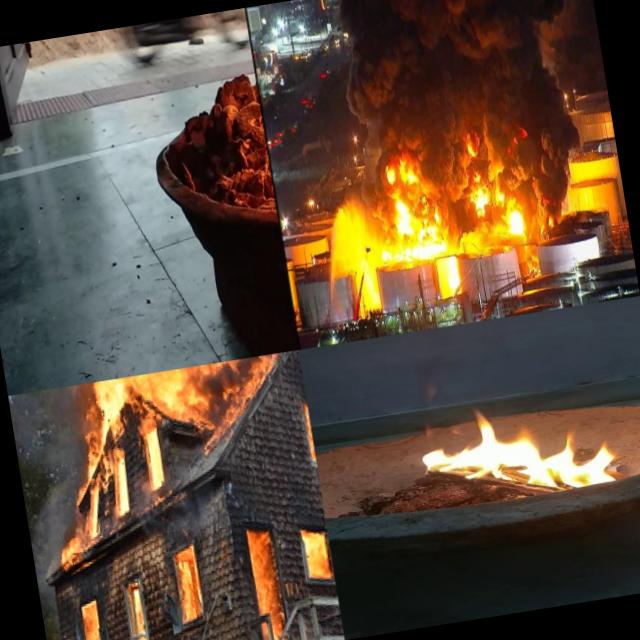fire: (63, 351, 309, 497), (410, 376, 628, 516), (239, 517, 286, 640), (375, 200, 446, 264), (170, 544, 208, 622), (55, 532, 97, 578), (436, 247, 464, 296), (358, 256, 383, 310), (79, 596, 109, 640), (468, 178, 492, 220), (501, 208, 529, 237), (402, 164, 422, 194), (381, 161, 399, 189)
smoke: (324, 0, 465, 169), (452, 0, 582, 177), (27, 472, 85, 538), (31, 536, 62, 598)
